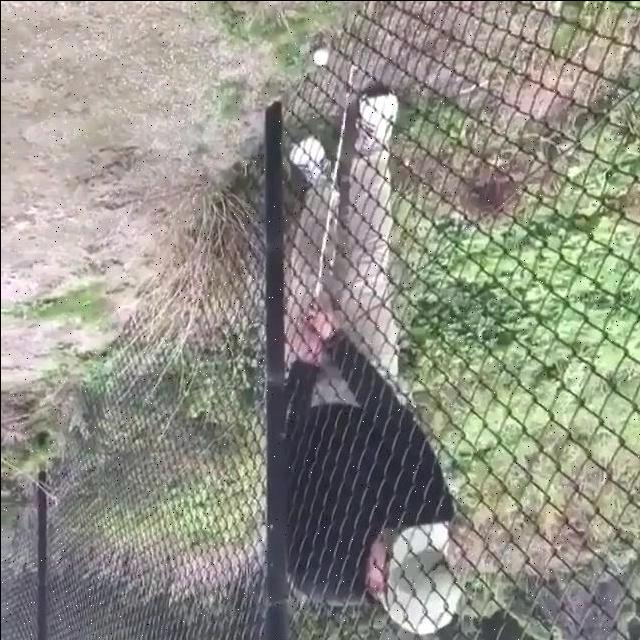ClubHandle: (309, 60, 359, 309)
ClubHead: (348, 61, 362, 76)
GolfBall: (309, 45, 327, 63)
